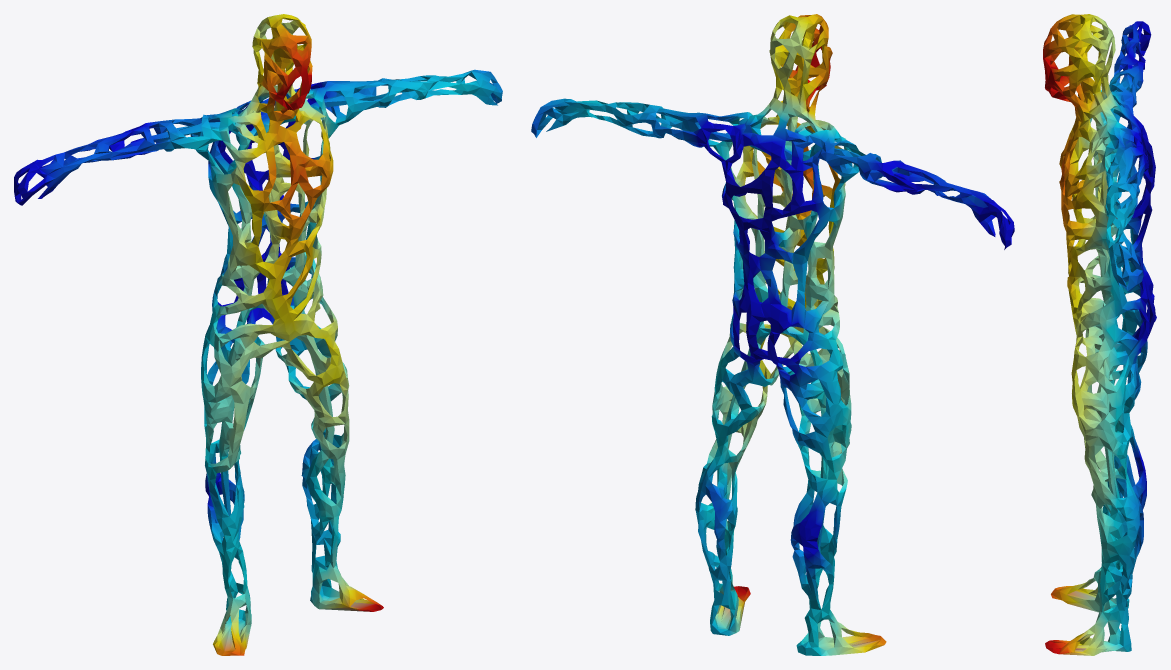
File: holey.glb
The picture shows the model from 3 angles, left to right: view 1: azimuth 30°, elevation 25°; view 2: azimuth 150°, elevation 25°; view 3: azimuth 270°, elevation 25°; orthographic projection.
Parts seen in each view (by area): view 1: holey_t.obj; view 2: holey_t.obj; view 3: holey_t.obj.
Boxes of the visible parts, x1,y1,x2,y2 form: holey_t.obj: [14, 14, 502, 655]; holey_t.obj: [531, 14, 1014, 655]; holey_t.obj: [1043, 14, 1156, 655].
Size of the model in its own units: 1.39 by 1.7 by 0.2885.
